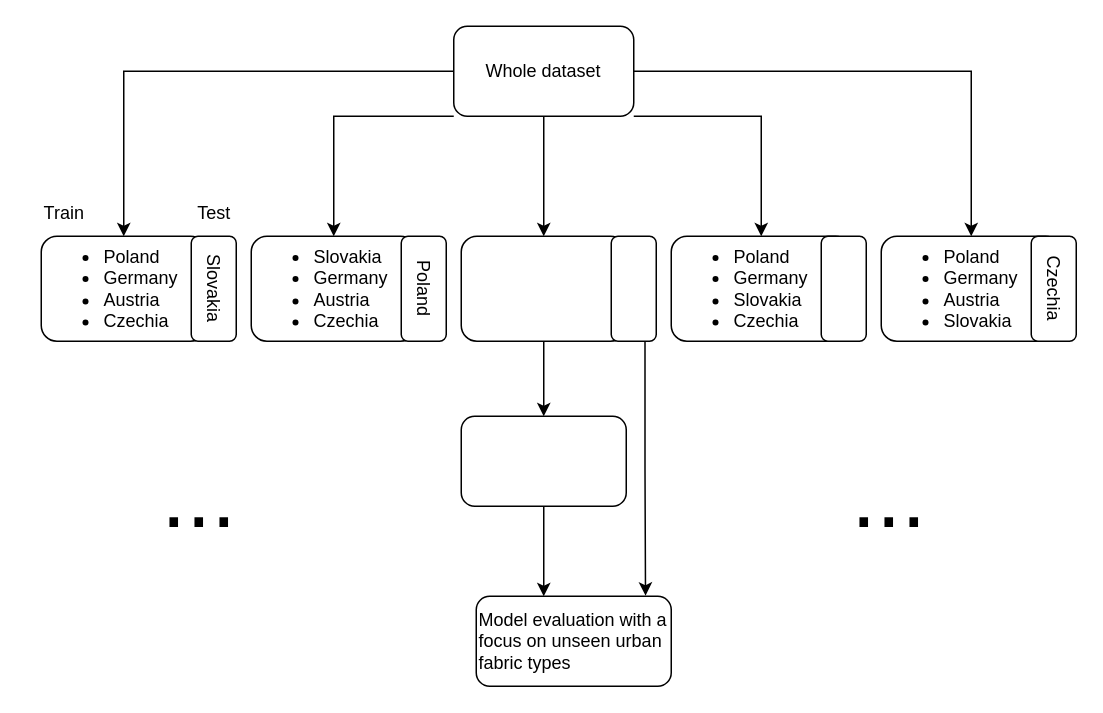
Image size: 1103x713. Some labels were removed from this diagram. Each missing label, with the centre of its shape:
"Austria" belongs at (843,288).
"Fivefold spatial validation split for model training" belongs at (543,460).
"Germany" belongs at (633,288).
"Poland Slovakia Austria Czechia" belongs at (543,288).
